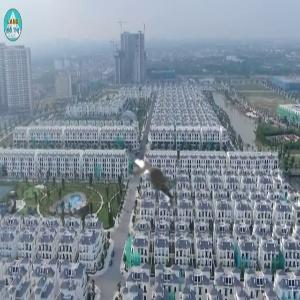drone: (25, 40, 284, 299)
